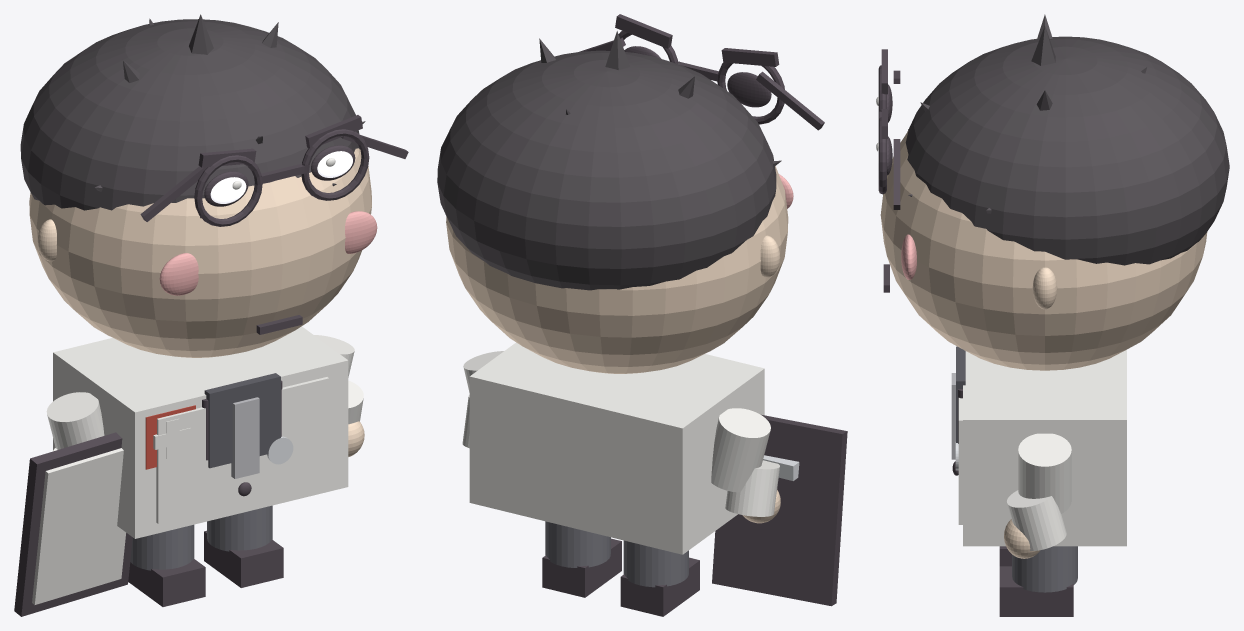
The model's file is medic.glb.
3 renders of one model, left to right at view 1: azimuth 30°, elevation 25°; view 2: azimuth 150°, elevation 25°; view 3: azimuth 270°, elevation 25°, orthographic.
Visible parts, largest first — view 1: HairCap, Head, Coat, CoatFront, ClipPaper, Clipboard, ShirtV, Shoe_R, UpperArm_L, Shoe_L, Leg_R, Leg_L (+16 smaller); view 2: HairCap, Coat, Head, Clipboard, UpperArm_L, Leg_L, Leg_R, Shoe_R, Shoe_L, Forearm_L, EyeSocket_L, Brow_R (+4 smaller); view 3: HairCap, Head, Coat, UpperArm_R, Leg_R, Shoe_R, Forearm_R, Ear_R, Hand_R, CoatFront, Cheek_R, Glasses_R (+3 smaller).
Part boxes in pixels (<box>): HairCap: <box>20,19,359,210</box>; Head: <box>29,148,371,357</box>; Coat: <box>53,326,348,538</box>; CoatFront: <box>156,377,329,523</box>; ClipPaper: <box>32,448,125,604</box>; Clipboard: <box>14,432,132,616</box>; ShirtV: <box>204,373,280,468</box>; Shoe_R: <box>204,530,283,587</box>; UpperArm_L: <box>46,392,104,449</box>; Shoe_L: <box>128,559,205,606</box>; Leg_R: <box>207,505,272,551</box>; Leg_L: <box>130,524,194,570</box>; HairCap: <box>437,50,776,290</box>; Coat: <box>469,342,764,554</box>; Head: <box>446,166,788,373</box>; Clipboard: <box>712,414,847,606</box>; UpperArm_L: <box>711,408,770,492</box>; Leg_L: <box>623,540,688,587</box>; Leg_R: <box>545,521,610,567</box>; Shoe_R: <box>542,538,621,597</box>; Shoe_L: <box>620,557,699,616</box>; Forearm_L: <box>725,460,779,516</box>; EyeSocket_L: <box>727,72,771,107</box>; Brow_R: <box>615,14,672,48</box>; HairCap: <box>905,36,1229,265</box>; Head: <box>880,131,1207,370</box>; Coat: <box>963,349,1126,546</box>; UpperArm_R: <box>1018,433,1071,513</box>; Leg_R: <box>1012,546,1077,592</box>; Shoe_R: <box>999,566,1073,616</box>; Forearm_R: <box>1007,490,1066,550</box>; Ear_R: <box>1032,267,1057,309</box>; Hand_R: <box>1004,519,1039,558</box>; CoatFront: <box>958,398,962,524</box>; Cheek_R: <box>901,234,916,279</box>; Glasses_R: <box>878,117,886,194</box>.
Size of the model in its own units: 1.35 by 2 by 1.14.
